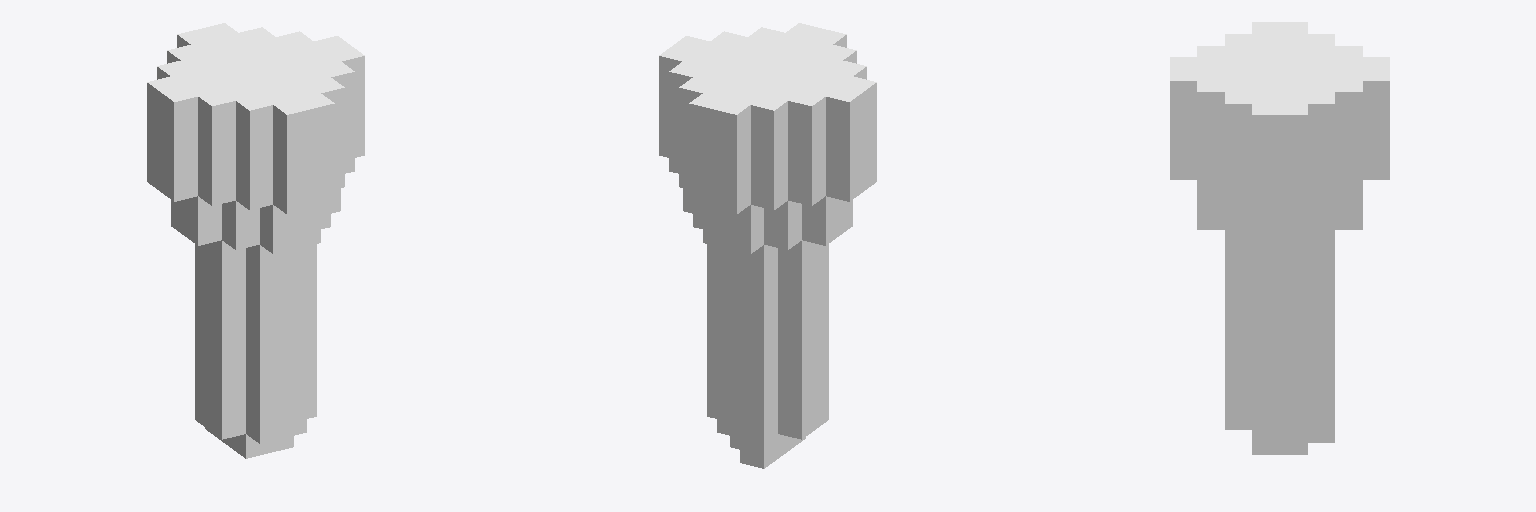
The model's file is item_tochu.obj.
3 views of the same model, side by side, from view 1: azimuth 30°, elevation 25°; view 2: azimuth 150°, elevation 25°; view 3: azimuth 270°, elevation 25° (orthographic).
Size of the model in its own units: 8 by 15 by 8.